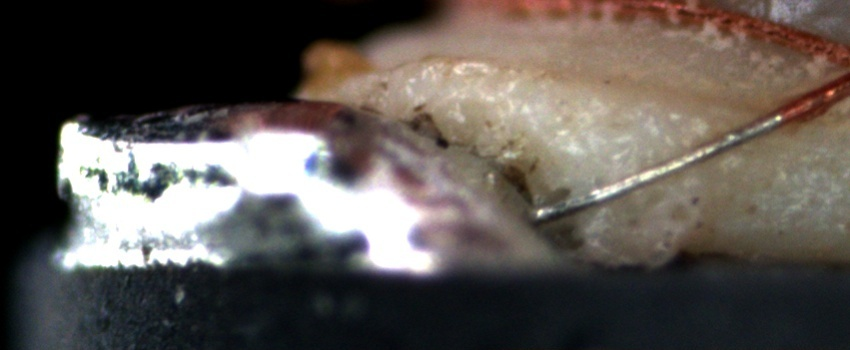TS: (531, 114, 783, 223)
